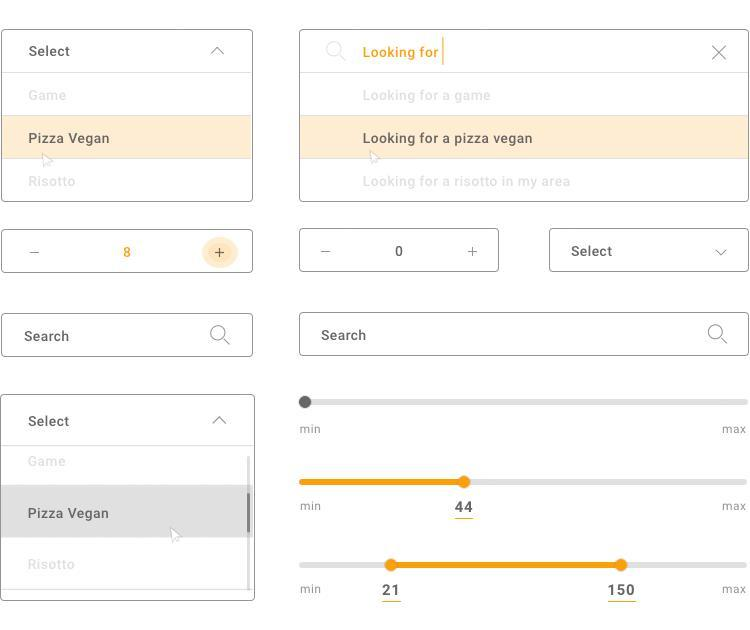dropdown: (2, 395, 255, 448), (1, 30, 253, 67), (550, 228, 750, 274)
input: (301, 311, 750, 359), (300, 26, 750, 72), (2, 313, 254, 357)
slider: (297, 388, 750, 412), (295, 469, 750, 492), (294, 553, 750, 575)
